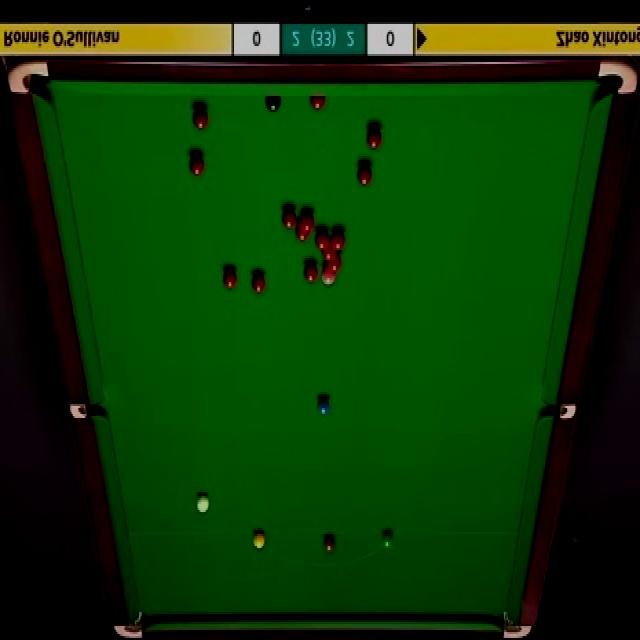black-ball: (266, 96, 282, 112)
blue-ball: (316, 398, 331, 415)
brown-ball: (324, 534, 335, 552)
green-ball: (380, 530, 395, 552)
pink-ball: (321, 266, 336, 286)
red-ball: (356, 163, 373, 188), (325, 250, 342, 274), (192, 106, 209, 129), (367, 126, 382, 150), (301, 262, 319, 282), (281, 207, 296, 231), (188, 156, 205, 177), (251, 274, 266, 297), (222, 268, 238, 288), (331, 232, 346, 252), (296, 222, 309, 242), (301, 212, 314, 232), (309, 97, 327, 111), (316, 232, 328, 250)
white-ball: (197, 494, 210, 515)
yellow-ball: (253, 530, 265, 550)
